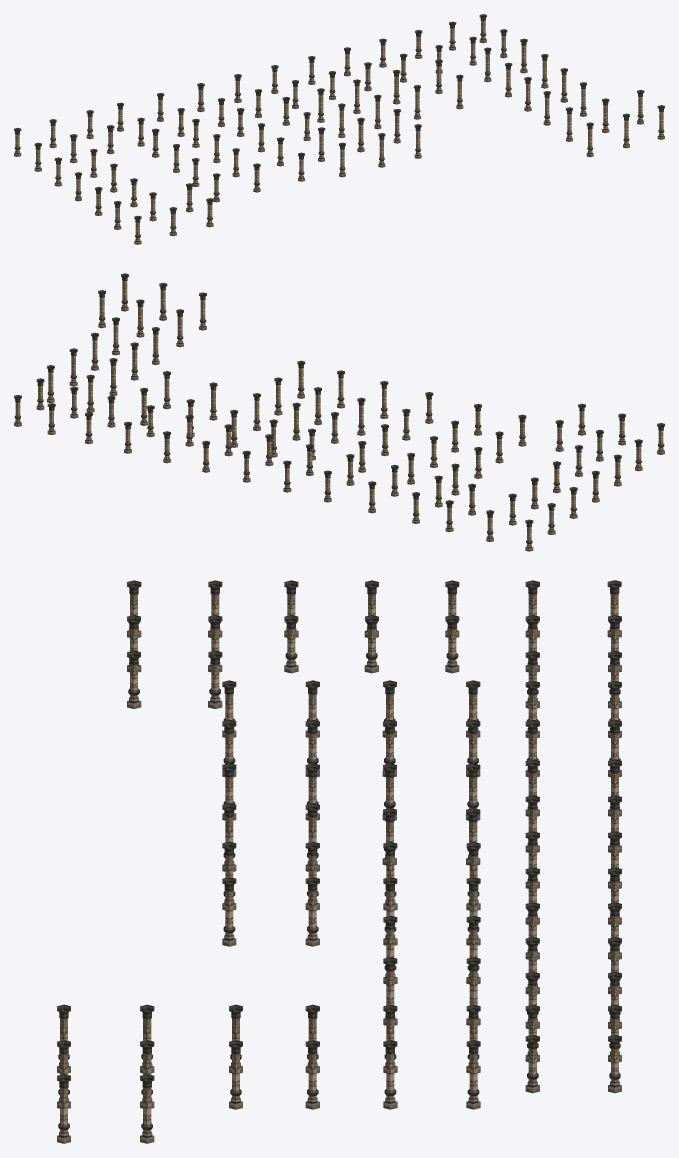
Rendered from Old_PhoenixCastle_Hallway_wall03.FBX.
3 views of the same model, one above another, from view 1: azimuth 30°, elevation 25°; view 2: azimuth 150°, elevation 25°; view 3: azimuth 270°, elevation 25° (orthographic). The views are drawn at different scales.
Parts seen in each view (by area): view 1: Object041; view 2: Object041; view 3: Object041.
Part boxes in pixels (bbox=[...]): Object041: bbox=[14, 14, 664, 244]; Object041: bbox=[14, 273, 664, 551]; Object041: bbox=[57, 580, 621, 1143].
Bounding box in the file's own units: 9943 × 581 × 4741.
1 material, 1 textured.
